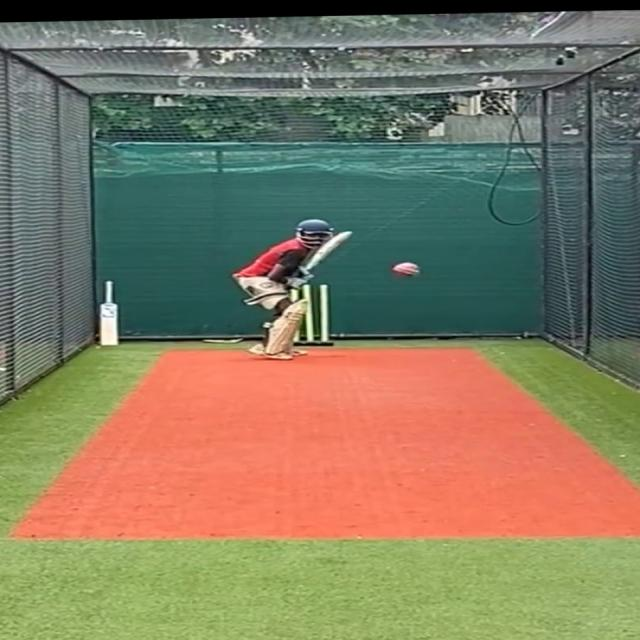ball: (390, 257, 430, 282)
stump: (301, 280, 335, 348)
